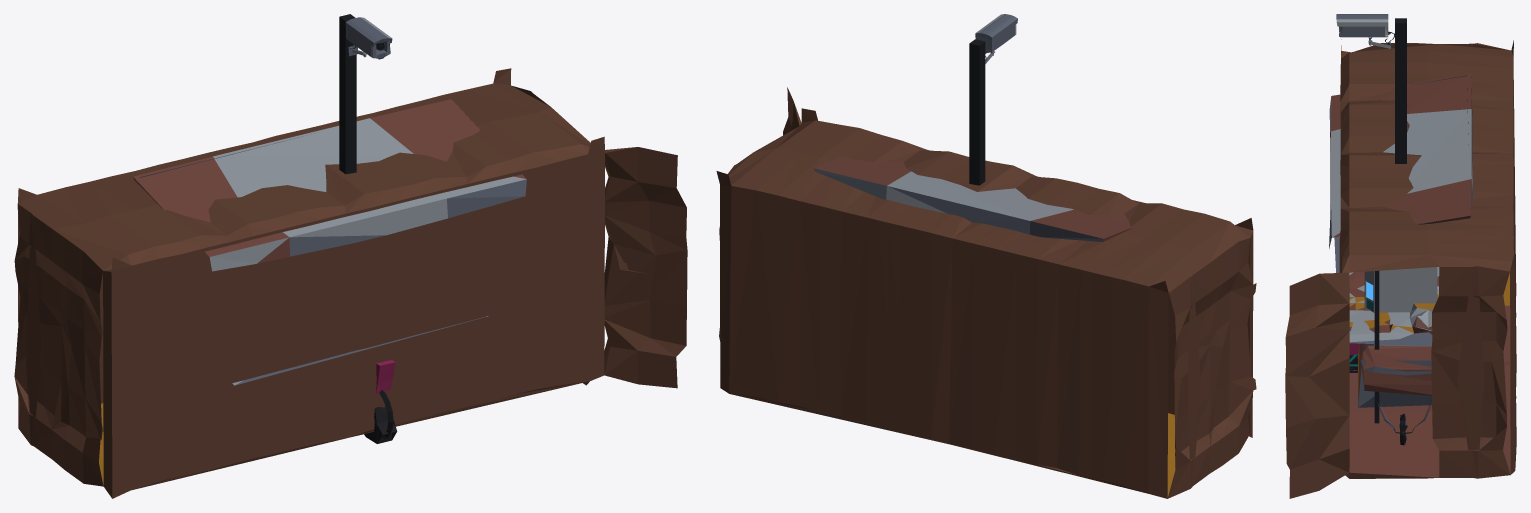
File: street-props.glb
3 renders of one model, left to right at view 1: azimuth 30°, elevation 25°; view 2: azimuth 150°, elevation 25°; view 3: azimuth 270°, elevation 25°, orthographic. The views are drawn at different scales.
Parts seen in each view (by area): view 1: st-container-rust, st-food-cart, st-cctv, st-scooter; view 2: st-container-rust, st-food-cart, st-cctv; view 3: st-container-rust, st-food-cart, st-cctv, st-vending.
Part boxes in pixels (x1=…): st-container-rust: x1=14, y1=68, x2=687, y2=498; st-food-cart: x1=133, y1=99, x2=526, y2=385; st-cctv: x1=339, y1=14, x2=392, y2=174; st-scooter: x1=364, y1=360, x2=397, y2=443; st-container-rust: x1=716, y1=87, x2=1256, y2=498; st-food-cart: x1=813, y1=150, x2=1132, y2=241; st-cctv: x1=969, y1=14, x2=1017, y2=185; st-container-rust: x1=1285, y1=39, x2=1516, y2=498; st-food-cart: x1=1329, y1=73, x2=1472, y2=445; st-cctv: x1=1336, y1=14, x2=1406, y2=163; st-vending: x1=1364, y1=267, x2=1437, y2=347.
Bounding box in the file's own units: 5.95 × 4.25 × 2.36.
1 material, 1 textured.
